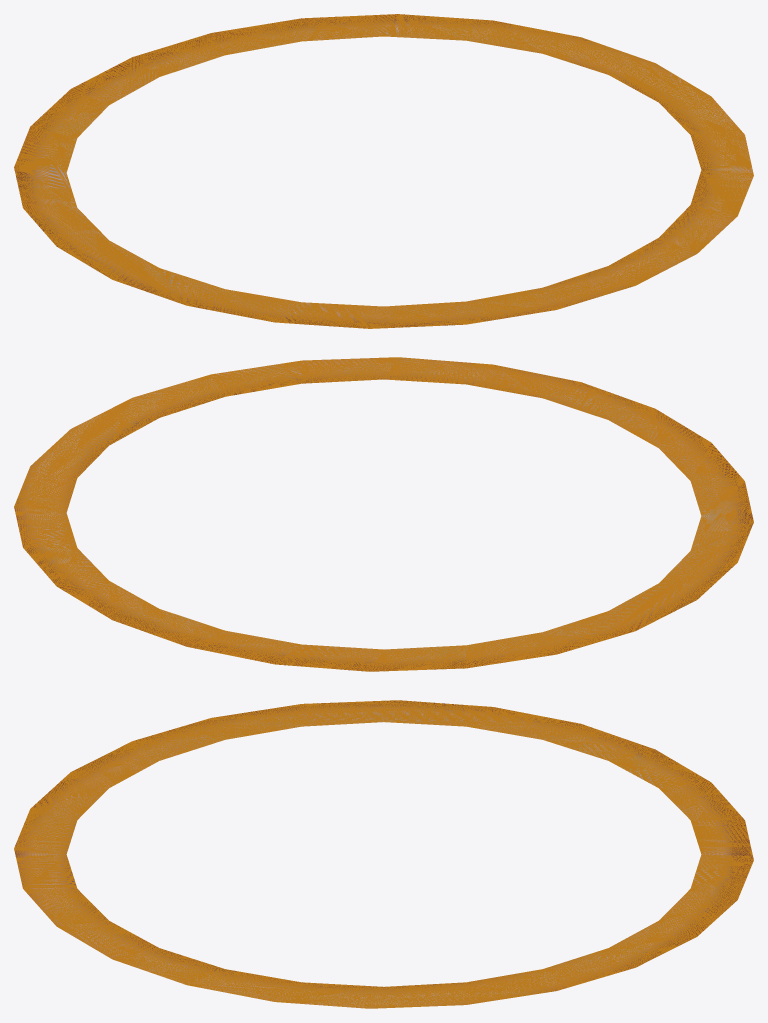
The model's file is original-13.obj.
The picture shows the model from 3 angles, top to bottom: view 1: azimuth 30°, elevation 25°; view 2: azimuth 150°, elevation 25°; view 3: azimuth 270°, elevation 25°; orthographic projection.
Visible parts, largest first — view 1: #ID86; view 2: #ID86; view 3: #ID86.
Boxes of the visible parts, box(x1,y1,x2,y2) form: #ID86: box(14, 14, 753, 328); #ID86: box(14, 357, 753, 671); #ID86: box(14, 700, 753, 1008).
Bounding box in the file's own units: 0.079 × 0.000483 × 0.079.
Materials: 2 (1 with a texture image).
